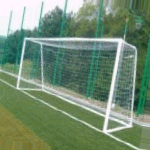goals: (15, 35, 137, 135)
